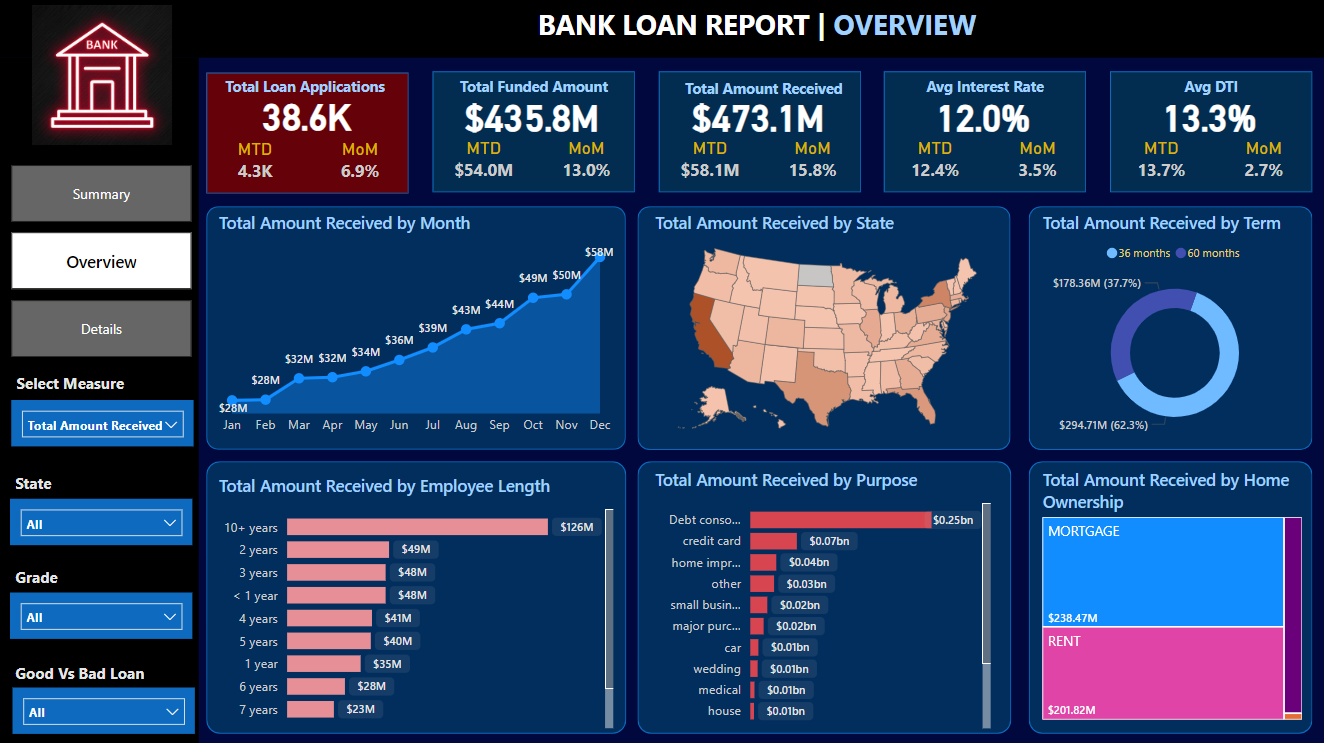

What the dashboard file says about the page in this screenshot:
{"tool":"powerbi","page":{"name":"Overview","canvas":[1280,720],"ordinal":1},"visuals":[{"type":"shape","box":[0,0,1280.5,55.7],"z":0},{"type":"image","box":[10.9,0,174.9,144.8],"z":0,"group":"g8"},{"type":"shape","box":[417.1,68.8,195.4,117],"z":0,"group":"g2"},{"type":"shape","box":[635.2,68.8,195.4,117],"z":0,"group":"g3"},{"type":"shape","box":[853.3,68.8,195.4,117],"z":0,"group":"g4"},{"type":"shape","box":[1071.3,68.8,195.4,117],"z":0,"group":"g5"},{"type":"shape","box":[199.1,70.4,195.4,117],"z":0,"group":"g1"},{"type":"slicer","fields":{"Values":["bank_loan_data.Good vs Bad Loan"]},"box":[11.9,663.3,176.1,44.6],"z":0,"group":"g6"},{"type":"card","fields":{"Values":["Calculation.Total Loan Applications"]},"box":[235.3,87.3,121.9,47.1],"z":1000,"group":"g1"},{"type":"card","fields":{"Values":["Calculation.Total Funded Amount"]},"box":[443,89.9,141.2,42.2],"z":1000,"group":"g2"},{"type":"card","fields":{"Values":["Calculation.Total Amount Received"]},"box":[661.1,89.9,141.2,42.2],"z":1000,"group":"g3"},{"type":"card","fields":{"Values":["Calculation.Average Interest Rate"]},"box":[879.2,89.9,141.2,42.2],"z":1000,"group":"g4"},{"type":"card","fields":{"Values":["Calculation.Avg DTI"]},"box":[1097.2,89.9,141.2,42.2],"z":1000,"group":"g5"},{"type":"pageNavigator","box":[10.9,159.3,174.9,185.8],"z":1000,"group":"g8"},{"type":"shape","box":[199.1,199.1,405,235],"z":1000},{"type":"textbox","box":[9.7,634.8,147.2,31.4],"z":1000,"group":"g6"},{"type":"shape","box":[0,55.5,191.8,664.7],"z":2000},{"type":"textbox","box":[206.6,68.8,176.1,29],"z":2000,"group":"g1"},{"type":"textbox","box":[432.8,68.8,164.1,32.6],"z":2000,"group":"g2"},{"type":"textbox","box":[869,68.8,164.1,32.6],"z":2000,"group":"g4"},{"type":"textbox","box":[1087,68.8,164.1,32.6],"z":2000,"group":"g5"},{"type":"textbox","box":[646.6,70.9,181,29],"z":2000,"group":"g3"},{"type":"textbox","box":[514.4,0,447.6,55.7],"z":3000},{"type":"card","title":"MTD","fields":{"Values":["Calculation.MTD Total Funded Amount"]},"box":[430.9,132.1,72.4,47.1],"z":3000,"group":"g2"},{"type":"card","title":"MTD","fields":{"Values":["Calculation.MTD Total Amount Received"]},"box":[649,132.1,72.4,47.1],"z":3000,"group":"g3"},{"type":"card","title":"MTD","fields":{"Values":["Calculation.MTD Avg Int Rate"]},"box":[867.1,132.1,72.4,47.1],"z":3000,"group":"g4"},{"type":"card","title":"MTD","fields":{"Values":["Calculation.MTD Avg DTI"]},"box":[1085.1,132.1,72.4,47.1],"z":3000,"group":"g5"},{"type":"card","title":"MTD","fields":{"Values":["Calculation.MTD Loan Applications"]},"box":[214.8,134.4,62.7,47.1],"z":3000,"group":"g1"},{"type":"group","id":"g1","title":"Group 1","box":[199.1,68.8,195.4,118.2],"z":4000},{"type":"card","title":"MoM","fields":{"Values":["Calculation.MoM Total Funded Amount"]},"box":[534.1,132.7,62.7,47.1],"z":4000,"group":"g2"},{"type":"card","title":"MoM","fields":{"Values":["Calculation.MoM Total Amount Received"]},"box":[752.2,132.7,62.7,47.1],"z":4000,"group":"g3"},{"type":"card","title":"MoM","fields":{"Values":["Calculation.MoM Avg Int rate"]},"box":[970.3,132.7,62.7,47.1],"z":4000,"group":"g4"},{"type":"card","title":"MoM","fields":{"Values":["Calculation.MoM Avg DTI"]},"box":[1188.3,132.7,62.7,47.1],"z":4000,"group":"g5"},{"type":"card","title":"MoM","fields":{"Values":["Calculation.MoM Loan Applications"]},"box":[316.1,134.4,62.7,47.1],"z":4000,"group":"g1"},{"type":"group","id":"g2","title":"Group 1","box":[417.1,68.8,195.4,117],"z":5000},{"type":"group","id":"g3","title":"Group 1","box":[635.2,68.8,195.4,117],"z":6000},{"type":"group","id":"g4","title":"Group 1","box":[853.3,68.8,195.4,117],"z":7000},{"type":"group","id":"g5","title":"Group 1","box":[1071.3,68.8,195.4,117],"z":8000},{"type":"areaChart","fields":{"Y":["Calculation.Total Amount Received"],"Category":["Date Table.Month"]},"box":[206.3,203.9,390.9,224.4],"z":9000},{"type":"slicer","fields":{"Values":["bank_loan_data.address_state"]},"box":[10.1,481.4,176.1,44.6],"z":9000,"group":"g10"},{"type":"shape","box":[615.3,199.1,360,235.3],"z":10000},{"type":"textbox","box":[10.1,451.2,53.1,36.2],"z":10000,"group":"g10"},{"type":"shapeMap","fields":{"Value":["Calculation.Total Amount Received"],"Category":["bank_loan_data.address_state"]},"box":[627.3,203.9,342.6,224.4],"z":11000},{"type":"slicer","fields":{"Values":["bank_loan_data.grade"]},"box":[10.1,571.9,176.1,44.6],"z":11000,"group":"g9"},{"type":"shape","box":[992.9,199.1,273.9,235.3],"z":12000},{"type":"textbox","box":[10.1,541.7,68.8,36.2],"z":12000,"group":"g9"},{"type":"donutChart","fields":{"Y":["Calculation.Total Amount Received"],"Category":["bank_loan_data.term"]},"box":[1001.3,203.9,265.4,224.4],"z":13000},{"type":"group","id":"g6","title":"Group 2","box":[9.7,634.8,178.3,73.1],"z":13000,"group":"g7"},{"type":"shape","box":[199.1,445.2,405.4,263],"z":14000},{"type":"slicer","fields":{"Values":["Select Measure.Select Measure"]},"box":[11.3,386.1,176.1,44.6],"z":15000,"group":"g11"},{"type":"barChart","fields":{"Y":["Calculation.Total Amount Received"],"Category":["bank_loan_data.emp_length"]},"box":[206.3,457.2,390.9,250.9],"z":15000},{"type":"textbox","box":[11.3,354.7,135.1,42.2],"z":16000,"group":"g11"},{"type":"shape","box":[615.3,445.2,360.7,263],"z":16000},{"type":"barChart","fields":{"Y":["Calculation.Total Amount Received"],"Category":["bank_loan_data.purpose"]},"box":[627.3,451.2,334.2,257],"z":17000},{"type":"shape","box":[992.9,445.2,273.9,263],"z":18000},{"type":"treemap","fields":{"Values":["Calculation.Total Amount Received"],"Group":["bank_loan_data.home_ownership"]},"box":[1001.3,451.2,260.6,248.5],"z":19000},{"type":"group","id":"g7","title":"Group 6","box":[9.7,354.7,177.3,353.5],"z":20000},{"type":"group","id":"g8","title":"Group 3","box":[10.9,0,174.9,345],"z":21000},{"type":"group","id":"g9","title":"Group 3","box":[10.1,541.7,176.1,74.8],"z":26002,"group":"g10"},{"type":"group","id":"g10","title":"Group 4","box":[10.1,451.2,176.1,165.3],"z":26003,"group":"g11"},{"type":"group","id":"g11","title":"Group 5","box":[10.1,354.7,177.3,261.8],"z":26004,"group":"g7"}]}

Visuals, with their boxes in screenshot pixels (x1, y1, x2, y2), scaled from the page's 1280x720 canvas onto the 1324x743 screenshot:
shape: <bbox>0, 0, 1323, 57</bbox>
image: <bbox>11, 0, 192, 149</bbox>
shape: <bbox>431, 71, 634, 192</bbox>
shape: <bbox>657, 71, 859, 192</bbox>
shape: <bbox>883, 71, 1085, 192</bbox>
shape: <bbox>1108, 71, 1310, 192</bbox>
shape: <bbox>206, 73, 408, 193</bbox>
slicer - bank_loan_data.Good vs Bad Loan: <bbox>12, 684, 194, 731</bbox>
card - Calculation.Total Loan Applications: <bbox>243, 90, 369, 139</bbox>
card - Calculation.Total Funded Amount: <bbox>458, 93, 604, 136</bbox>
card - Calculation.Total Amount Received: <bbox>684, 93, 830, 136</bbox>
card - Calculation.Average Interest Rate: <bbox>909, 93, 1055, 136</bbox>
card - Calculation.Avg DTI: <bbox>1135, 93, 1281, 136</bbox>
pageNavigator: <bbox>11, 164, 192, 356</bbox>
shape: <bbox>206, 205, 625, 448</bbox>
textbox: <bbox>10, 655, 162, 687</bbox>
shape: <bbox>0, 57, 198, 742</bbox>
textbox: <bbox>214, 71, 396, 101</bbox>
textbox: <bbox>448, 71, 617, 105</bbox>
textbox: <bbox>899, 71, 1069, 105</bbox>
textbox: <bbox>1124, 71, 1294, 105</bbox>
textbox: <bbox>669, 73, 856, 103</bbox>
textbox: <bbox>532, 0, 995, 57</bbox>
"MTD" card: <bbox>446, 136, 521, 185</bbox>
"MTD" card: <bbox>671, 136, 746, 185</bbox>
"MTD" card: <bbox>897, 136, 972, 185</bbox>
"MTD" card: <bbox>1122, 136, 1197, 185</bbox>
"MTD" card: <bbox>222, 139, 287, 187</bbox>
"Group 1" group: <bbox>206, 71, 408, 193</bbox>
"MoM" card: <bbox>552, 137, 617, 186</bbox>
"MoM" card: <bbox>778, 137, 843, 186</bbox>
"MoM" card: <bbox>1004, 137, 1069, 186</bbox>
"MoM" card: <bbox>1229, 137, 1294, 186</bbox>
"MoM" card: <bbox>327, 139, 392, 187</bbox>
"Group 1" group: <bbox>431, 71, 634, 192</bbox>
"Group 1" group: <bbox>657, 71, 859, 192</bbox>
"Group 1" group: <bbox>883, 71, 1085, 192</bbox>
"Group 1" group: <bbox>1108, 71, 1310, 192</bbox>
areaChart - Calculation.Total Amount Received x Date Table.Month: <bbox>213, 210, 618, 442</bbox>
slicer - bank_loan_data.address_state: <bbox>10, 497, 193, 543</bbox>
shape: <bbox>636, 205, 1009, 448</bbox>
textbox: <bbox>10, 466, 65, 503</bbox>
shapeMap - Calculation.Total Amount Received x bank_loan_data.address_state: <bbox>649, 210, 1003, 442</bbox>
slicer - bank_loan_data.grade: <bbox>10, 590, 193, 636</bbox>
shape: <bbox>1027, 205, 1310, 448</bbox>
textbox: <bbox>10, 559, 82, 596</bbox>
donutChart - Calculation.Total Amount Received x bank_loan_data.term: <bbox>1036, 210, 1310, 442</bbox>
"Group 2" group: <bbox>10, 655, 194, 731</bbox>
shape: <bbox>206, 459, 625, 731</bbox>
slicer - Select Measure.Select Measure: <bbox>12, 398, 194, 444</bbox>
barChart - Calculation.Total Amount Received x bank_loan_data.emp_length: <bbox>213, 472, 618, 731</bbox>
textbox: <bbox>12, 366, 151, 410</bbox>
shape: <bbox>636, 459, 1010, 731</bbox>
barChart - Calculation.Total Amount Received x bank_loan_data.purpose: <bbox>649, 466, 995, 731</bbox>
shape: <bbox>1027, 459, 1310, 731</bbox>
treemap - Calculation.Total Amount Received x bank_loan_data.home_ownership: <bbox>1036, 466, 1305, 722</bbox>
"Group 6" group: <bbox>10, 366, 193, 731</bbox>
"Group 3" group: <bbox>11, 0, 192, 356</bbox>
"Group 3" group: <bbox>10, 559, 193, 636</bbox>
"Group 4" group: <bbox>10, 466, 193, 636</bbox>
"Group 5" group: <bbox>10, 366, 194, 636</bbox>
